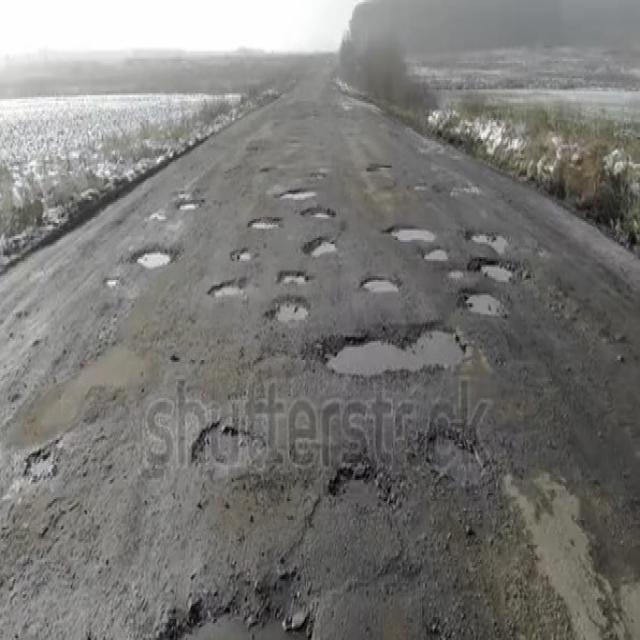pothole: (154, 573, 307, 640), (318, 317, 471, 384), (422, 425, 493, 496), (187, 417, 266, 468), (329, 456, 389, 511), (266, 285, 318, 328), (473, 253, 539, 286), (461, 287, 514, 325), (22, 441, 65, 482), (209, 276, 268, 304), (134, 241, 183, 273), (455, 229, 515, 253), (362, 274, 408, 303), (387, 223, 435, 245), (245, 217, 288, 236), (419, 248, 451, 271), (104, 272, 128, 298), (278, 275, 314, 292), (309, 233, 334, 257), (307, 204, 333, 223), (229, 251, 257, 265)
